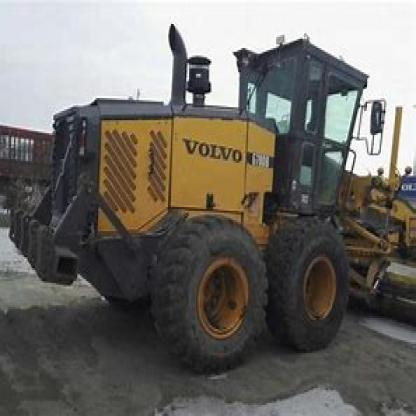bull_dozer/loader/grader: (14, 11, 415, 366)
